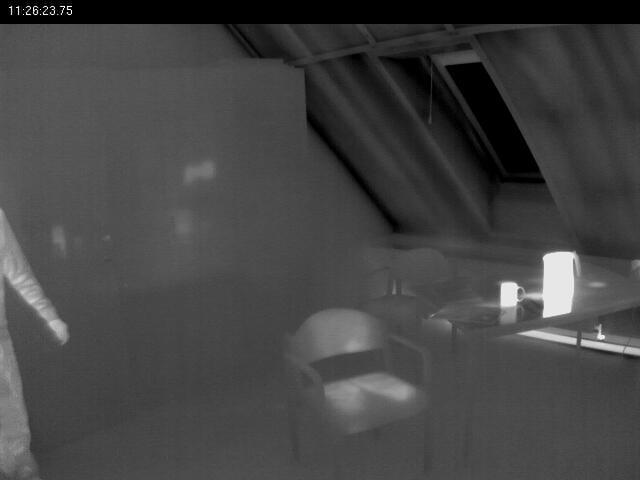person: (0, 197, 71, 480)
